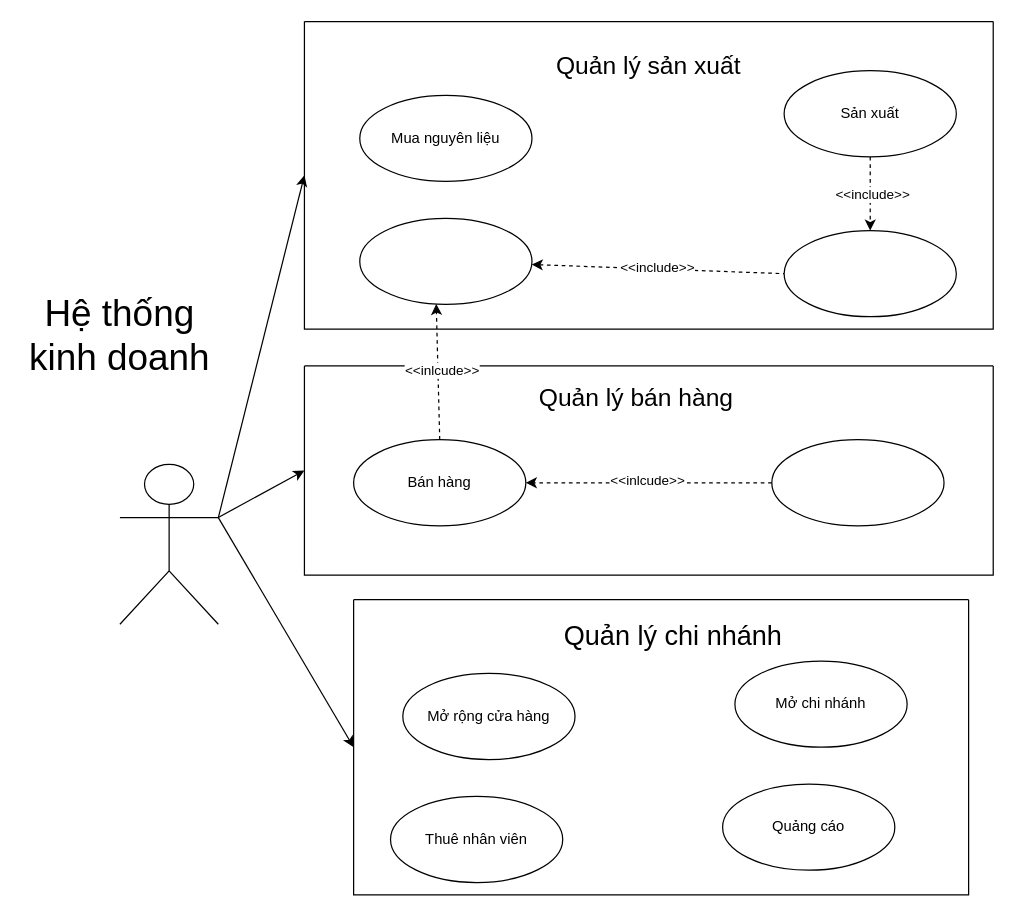
Some shapes in this 1015 by 916 pixel diagram are drawn without their labels. The box of each missing label's shape, as (x1, y1, x2, y2) in pixels:
Kiểm tra nguyên liệu: (783, 229, 956, 317)
Người chơi: (119, 463, 218, 624)
Quản lý tồn kho: (359, 217, 532, 304)
Định giá: (771, 438, 944, 526)
